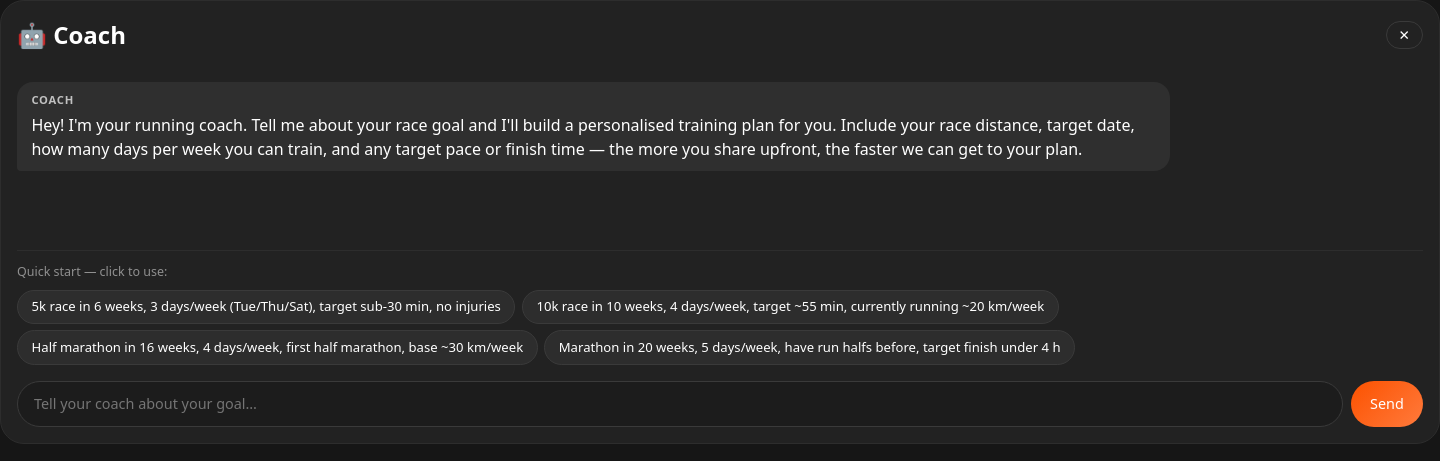
Test: CoachPlanWizard › displays follow-up question chips after a response
In the field with placeholder "Tell your coach about your goal…": (680, 404) [17,381,1343,427], type "Ready"
Then press Enter
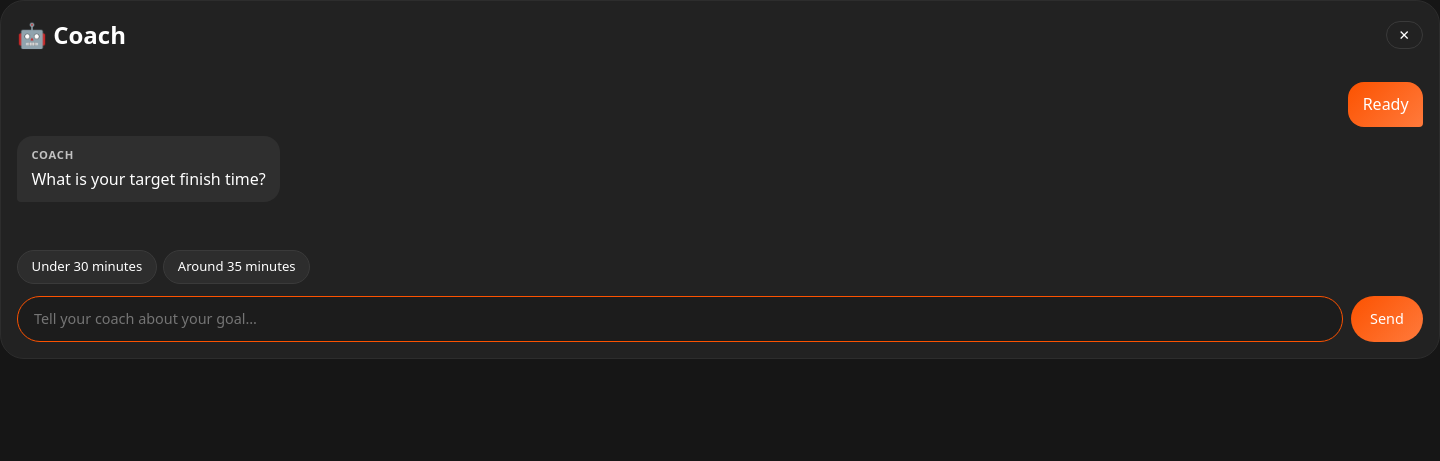
expect the button "Under 30 minutes" is shown: met, box [17,250,157,284]
expect the button "Around 35 minutes" is shown: met, box [163,250,310,284]
